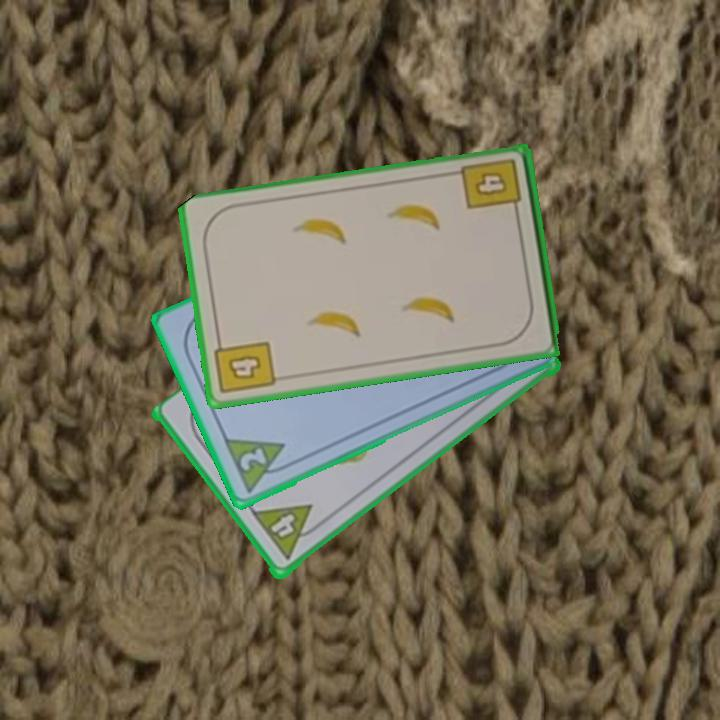2p: (235, 444, 270, 475)
4b: (211, 333, 278, 398), (458, 155, 525, 220)
4p: (252, 501, 312, 545)
